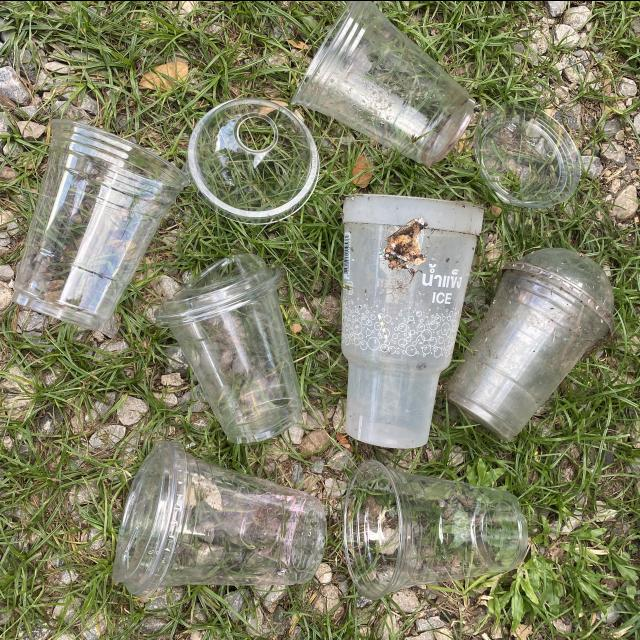plastik: (12, 118, 189, 329), (341, 193, 483, 447), (112, 440, 326, 596), (446, 247, 614, 440), (291, 0, 474, 165), (154, 253, 301, 442), (344, 460, 527, 598), (187, 96, 320, 223), (474, 103, 581, 207)
